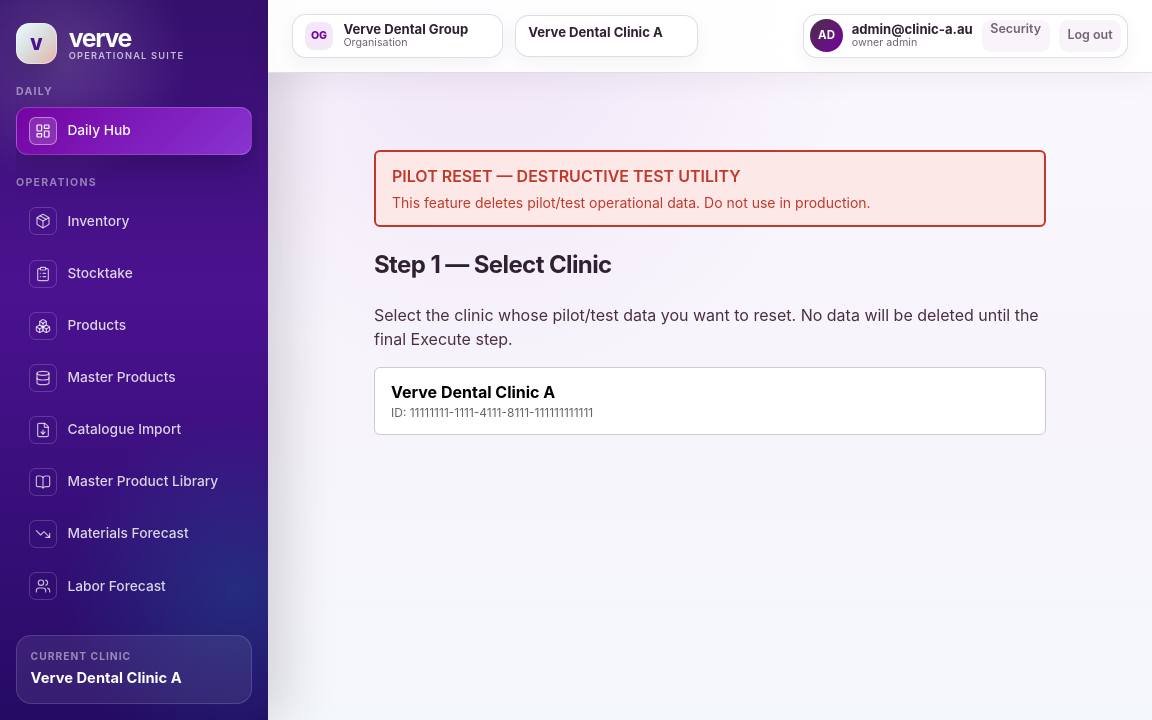
T62: Blockers and warnings are shown prominently › shows blocker message when active process detected
Click the button "Verve Dental Clinic A" at (473, 392), box [374,367,1046,435]
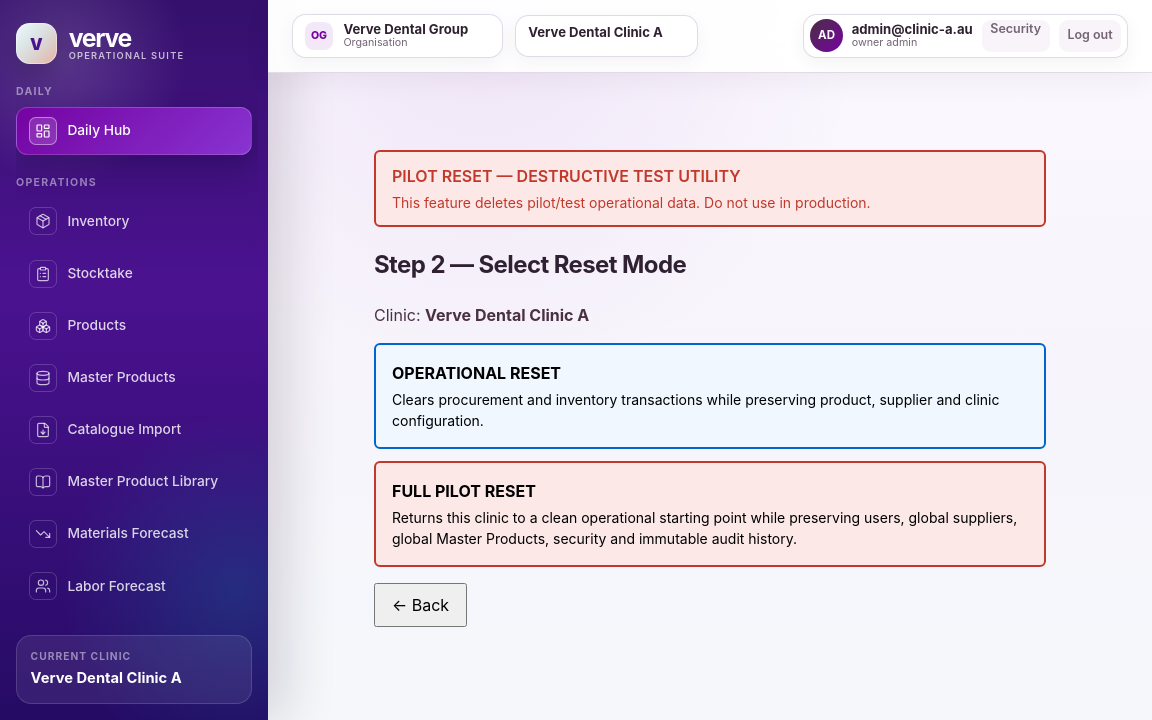
Click the text "OPERATIONAL RESET" at (476, 373), box [392,363,561,383]
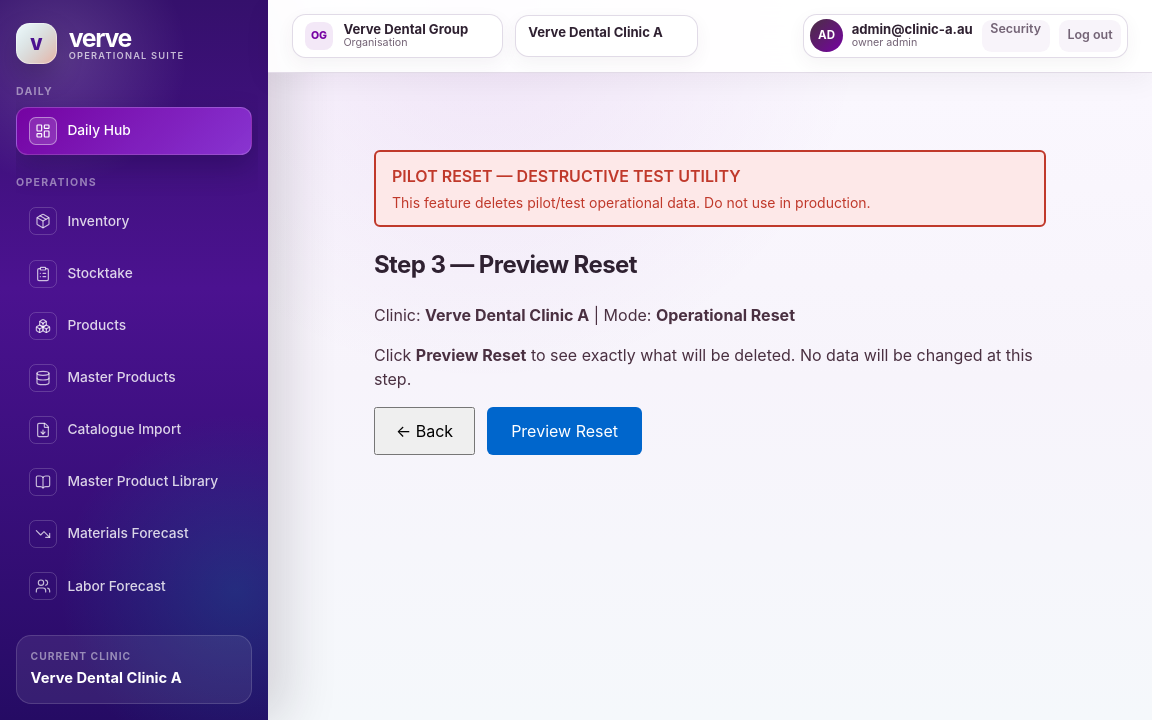
Click the button "Preview Reset" at (565, 431), box [487,407,642,455]
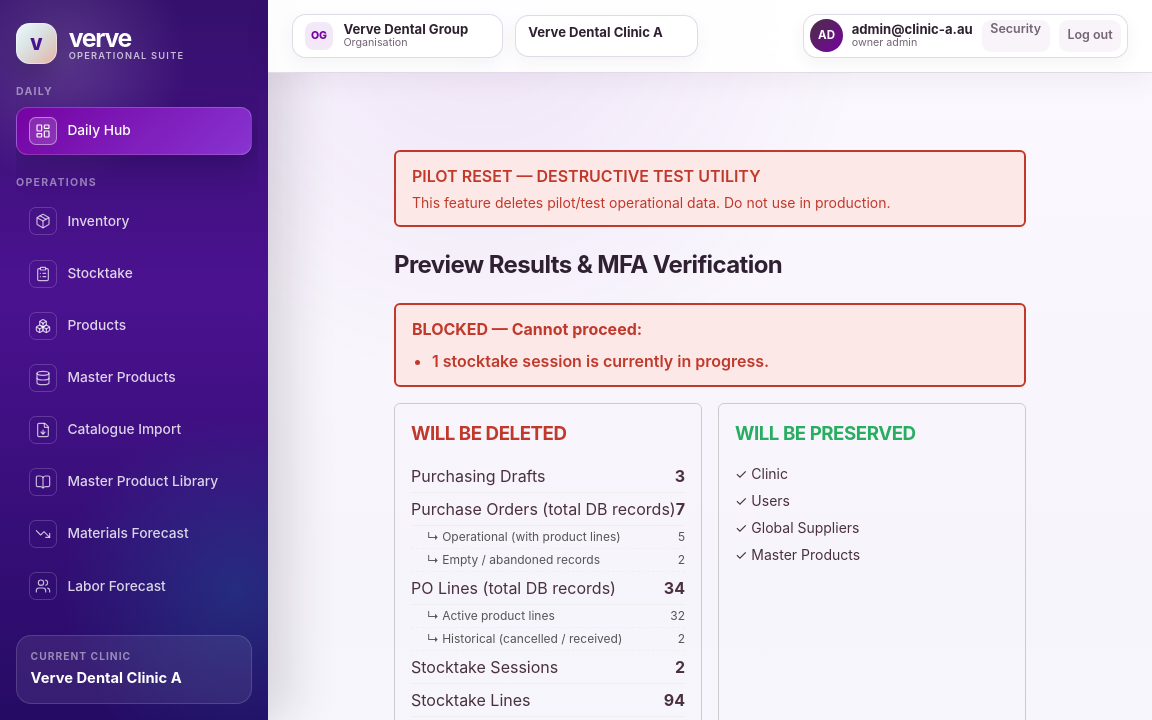
Check: the text "BLOCKED — Cannot proceed:" is shown, box [412,319,642,339]
Check: the list item "1 stocktake session is currently in progress." is shown, box [432,351,769,371]
